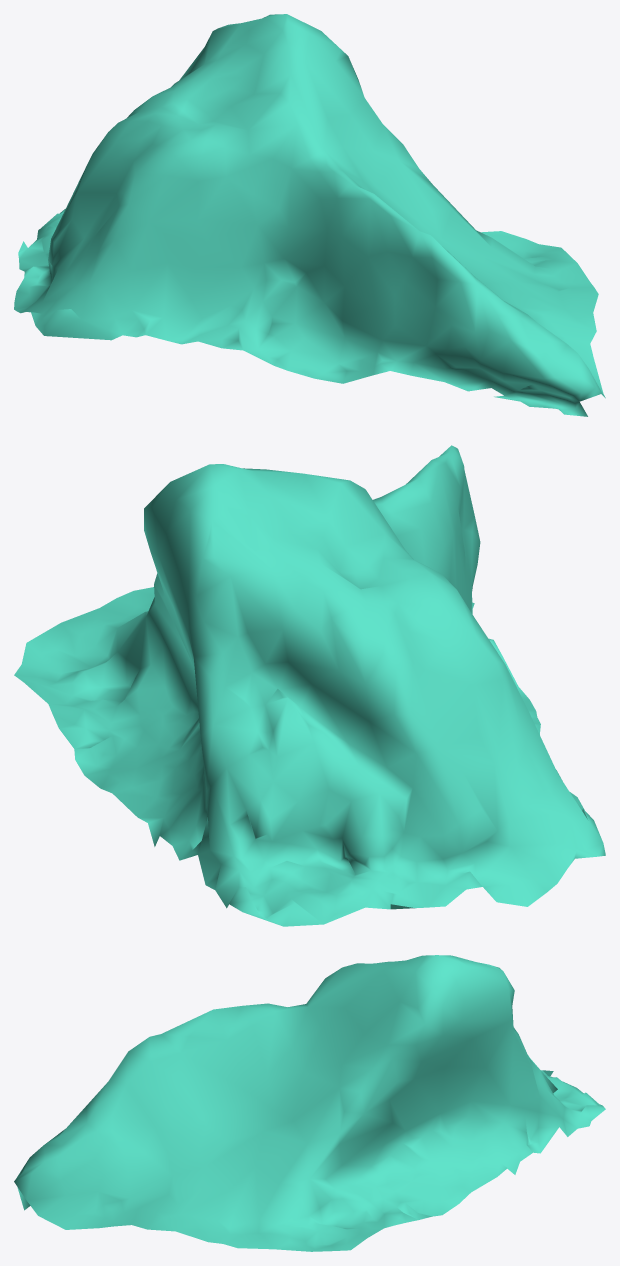
The model's file is SnowMountain.obj.
3 renders of one model, top to bottom at view 1: azimuth 30°, elevation 25°; view 2: azimuth 150°, elevation 25°; view 3: azimuth 270°, elevation 25°, orthographic. The views are drawn at different scales.
Parts seen in each view (by area): view 1: Obj3d66_567733_1_498; view 2: Obj3d66_567733_1_498; view 3: Obj3d66_567733_1_498.
Part boxes in pixels (x1,y1,x2,y2): Obj3d66_567733_1_498: [14, 14, 605, 416]; Obj3d66_567733_1_498: [14, 445, 605, 926]; Obj3d66_567733_1_498: [14, 955, 605, 1251].
Size of the model in its own units: 423 by 217 by 513.
